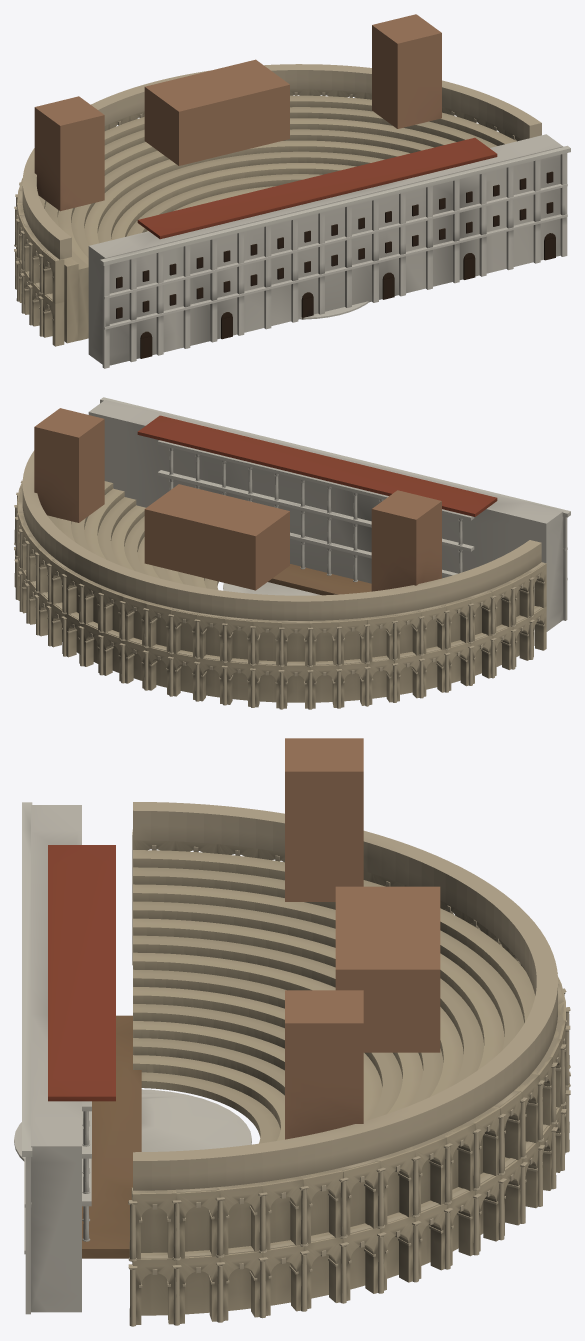
The model's file is theatre-of-marcellus-fortress.glb.
3 views of the same model, one above another, from view 1: azimuth 30°, elevation 25°; view 2: azimuth 150°, elevation 25°; view 3: azimuth 270°, elevation 25° (orthographic). The views are drawn at different scales.
Visible parts, largest first — view 1: p2_stage, p0_cavea, p1_facade; view 2: p2_stage, p1_facade, p0_cavea; view 3: p2_stage, p1_facade, p0_cavea.
Boxes of the visible parts, x1,y1,x2,y2 form: p2_stage: (34,14,570,368); p0_cavea: (39,95,516,343); p1_facade: (14,64,541,346); p2_stage: (34,397,570,631); p1_facade: (14,450,546,709); p0_cavea: (47,481,534,702); p2_stage: (22,738,440,1314); p1_facade: (128,802,570,1326); p0_cavea: (14,850,535,1315).
Size of the model in its own units: 134 by 44.05 by 85.16.
